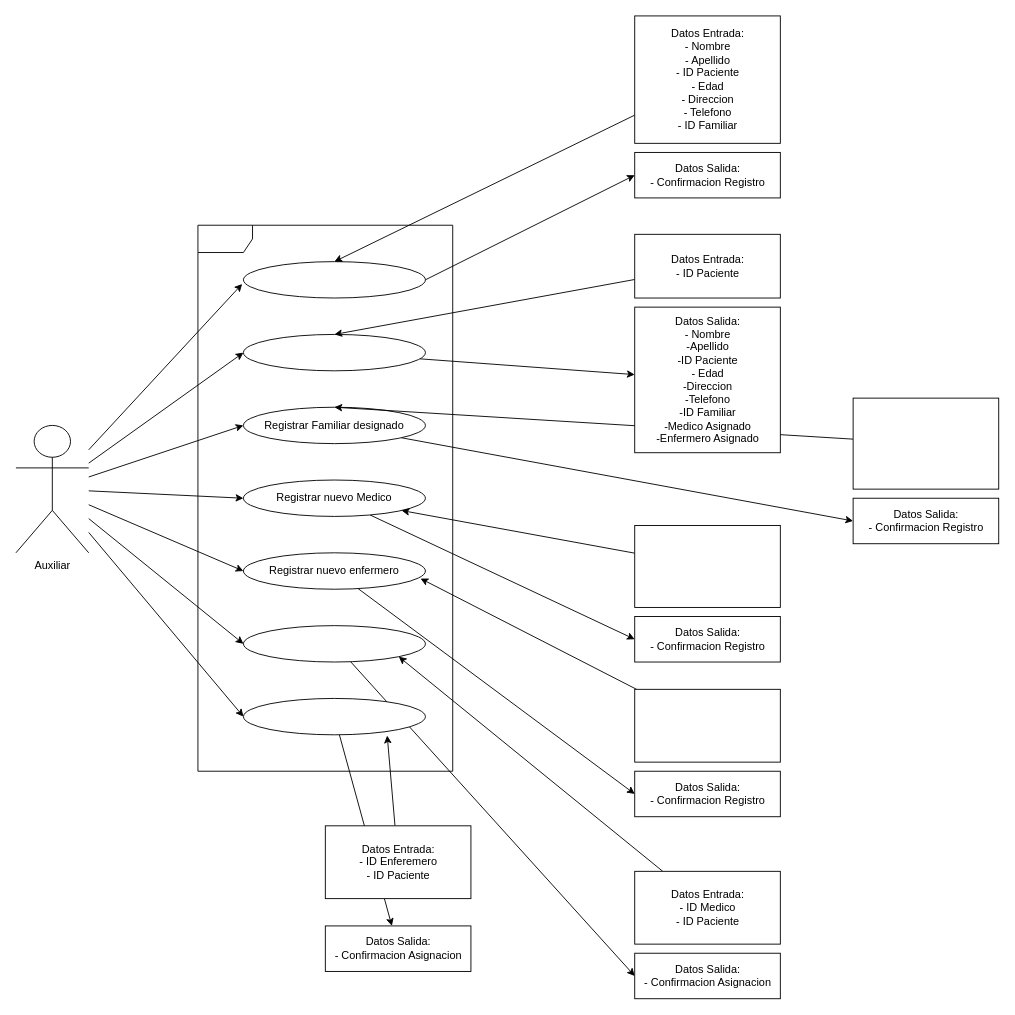
The diagram is 1015 pixels wide and 1015 high, and some of its shapes have lost their labels. The shapes that lost their labels are listed below. From the top down, each one's box as (x1, y1, x2, y2) in pixels, then its label:
(243, 261, 425, 298): Registrar Paciente
(243, 334, 425, 371): Consultar Pacientes
(852, 397, 999, 489): Datos Entrada: - Nombre - Apellido - ID Familiar - Direccion - Telefono
(197, 224, 453, 771): Sistema
(634, 525, 780, 607): Datos Entrada: - Nombre - Apellido - ID Medico
(243, 625, 425, 662): Asignar medico
(243, 698, 425, 735): Asignar enfermero
(634, 688, 780, 762): Datos Entrada: - Nombre - Apellido - ID Enfermero
